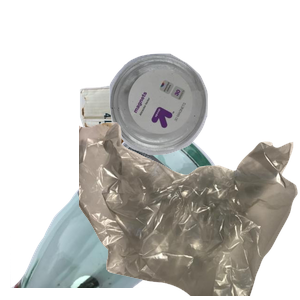cardboard: (77, 79, 251, 227)
glass: (10, 120, 224, 300)
plastic: (107, 51, 300, 199)
trash: (79, 120, 300, 300)
